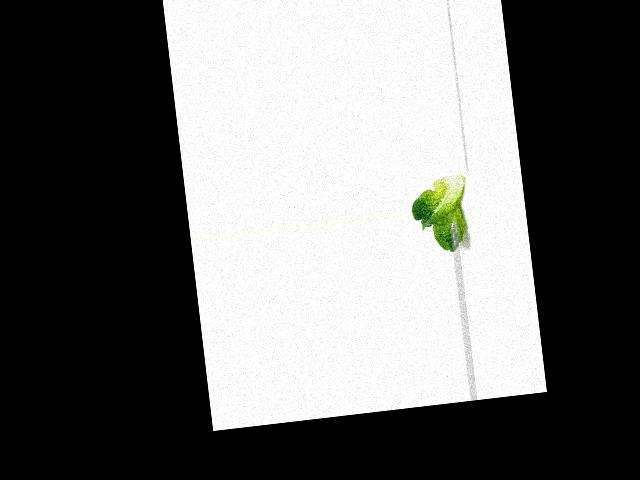lettuce: (407, 171, 470, 258)
